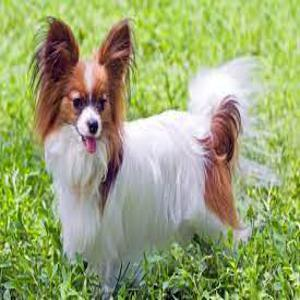yell: (32, 17, 277, 290)
